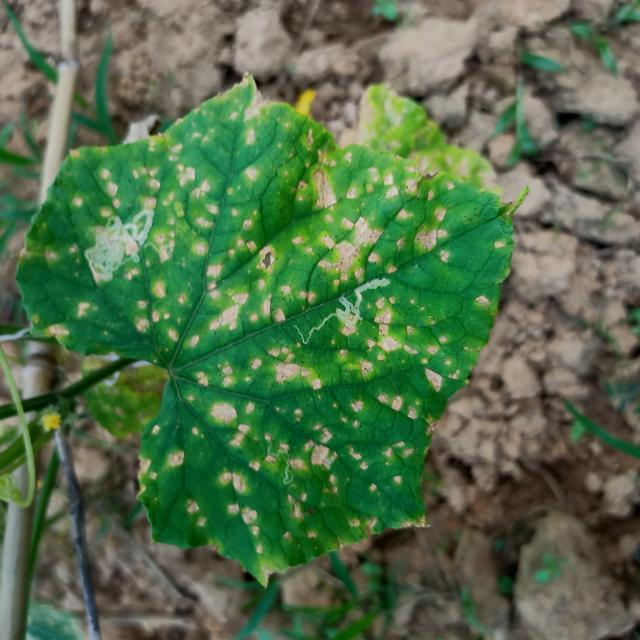disease_cucumber: (40, 124, 478, 540)
